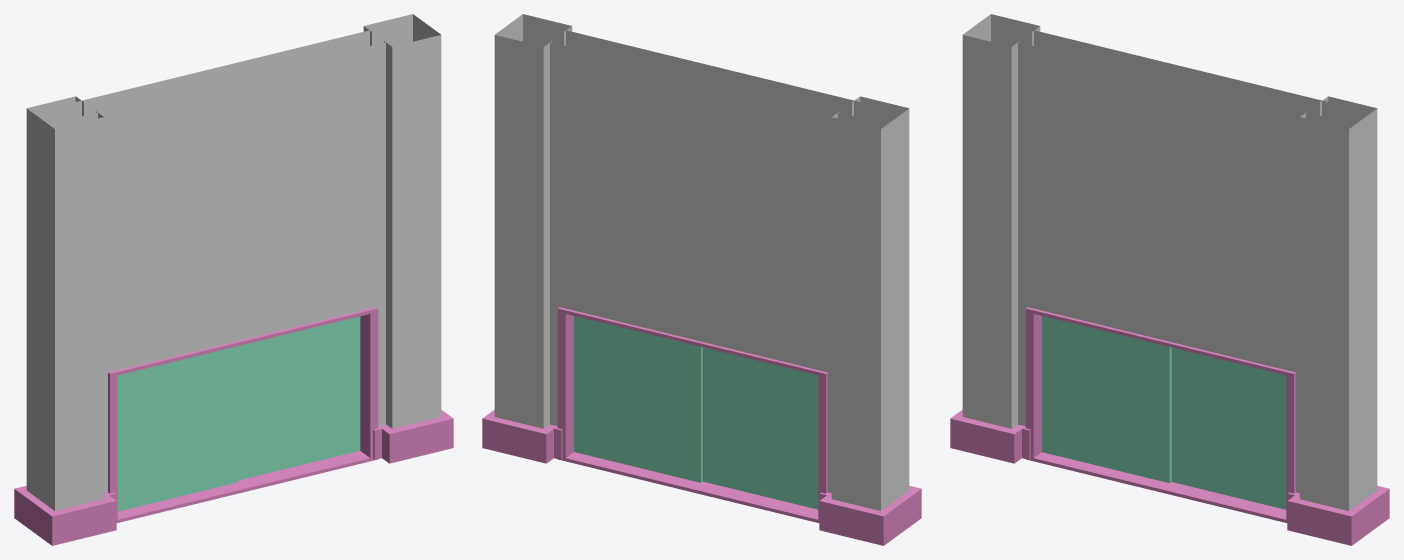
The model's file is Wall3Glass.fbx.
3 renders of one model, left to right at view 1: azimuth 30°, elevation 25°; view 2: azimuth 150°, elevation 25°; view 3: azimuth 330°, elevation 25°, orthographic.
Parts seen in each view (by area): view 1: Cube.010, Cube.008; view 2: Cube.010, Cube.008; view 3: Cube.010, Cube.008.
Part boxes in pixels (box(x1,y1,x2,y2)): Cube.010: box(14, 14, 453, 545); Cube.008: box(117, 346, 237, 511); Cube.010: box(482, 14, 921, 545); Cube.008: box(702, 347, 818, 509); Cube.010: box(950, 14, 1389, 545); Cube.008: box(1042, 316, 1171, 483).
Bounding box in the file's own units: 7.14 × 7.03 × 1.17.
